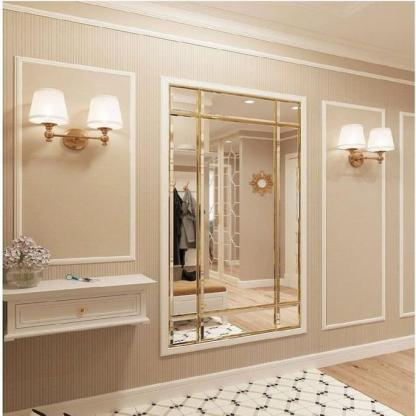Futec frame: (152, 74, 311, 372), (6, 52, 142, 293), (317, 99, 390, 337)
